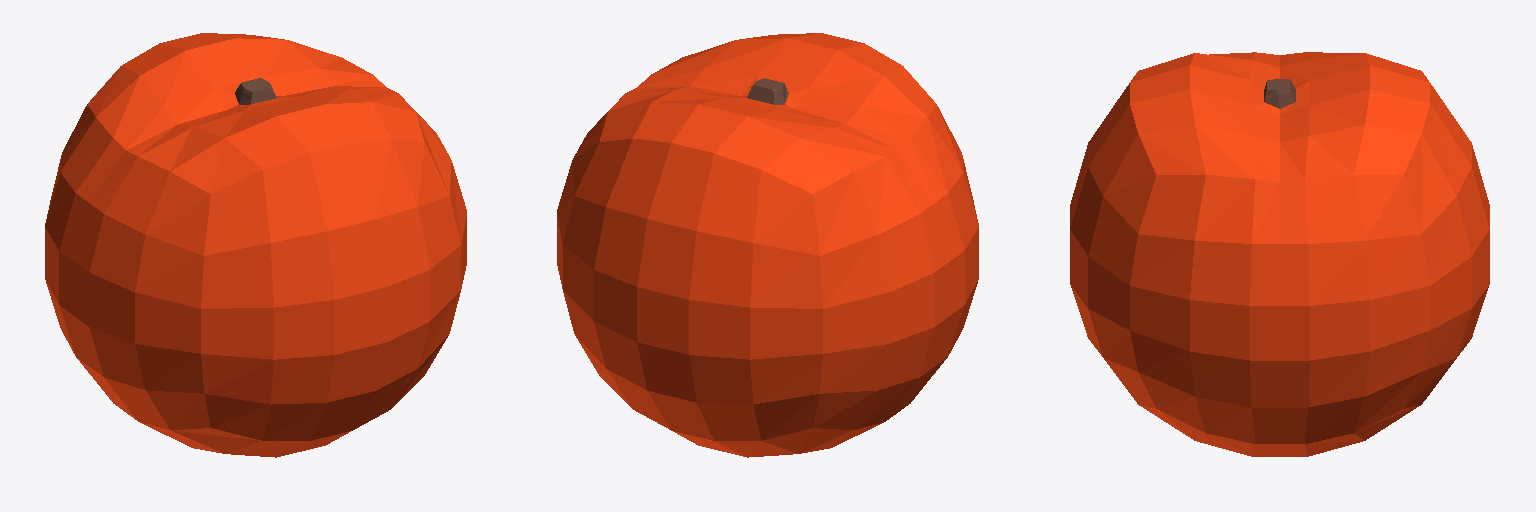
The model's file is SmoothPeachobj.obj.
3 renders of one model, left to right at view 1: azimuth 30°, elevation 25°; view 2: azimuth 150°, elevation 25°; view 3: azimuth 270°, elevation 25°, orthographic.
Parts seen in each view (by area): view 1: peach_Roundcube.006; view 2: peach_Roundcube.006; view 3: peach_Roundcube.006.
Part boxes in pixels (x1,y1,x2,y2): peach_Roundcube.006: (45, 33, 466, 457); peach_Roundcube.006: (557, 33, 978, 457); peach_Roundcube.006: (1070, 52, 1489, 456).
Bounding box in the file's own units: 9.8 × 9.22 × 9.8.